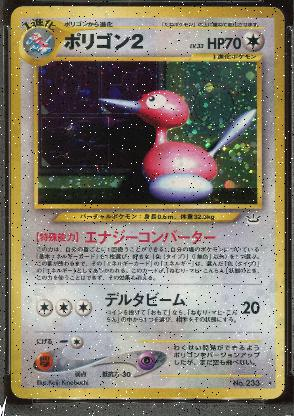Card: (7, 3, 285, 402)
